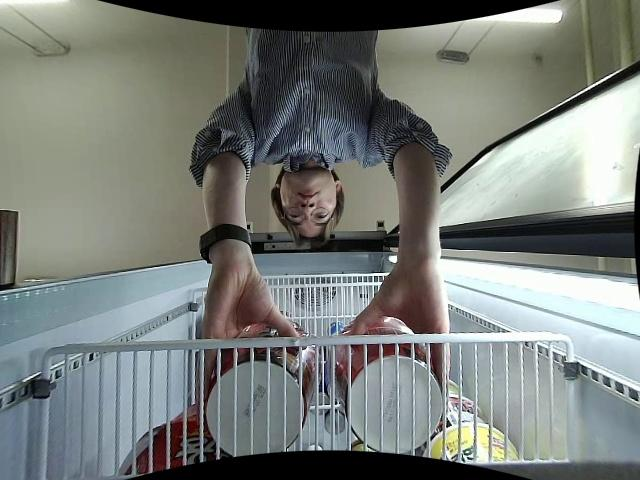00_hand: (194, 274, 300, 402), (350, 284, 450, 394)
01_shinRamen_L: (325, 316, 445, 453), (204, 326, 320, 456)
